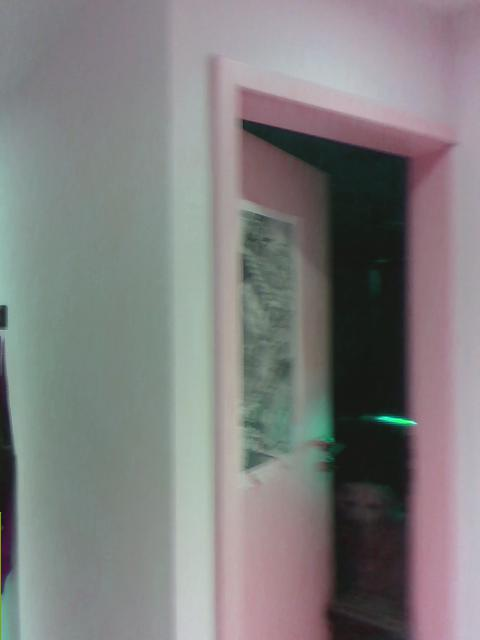semi_door: (205, 49, 464, 639)
